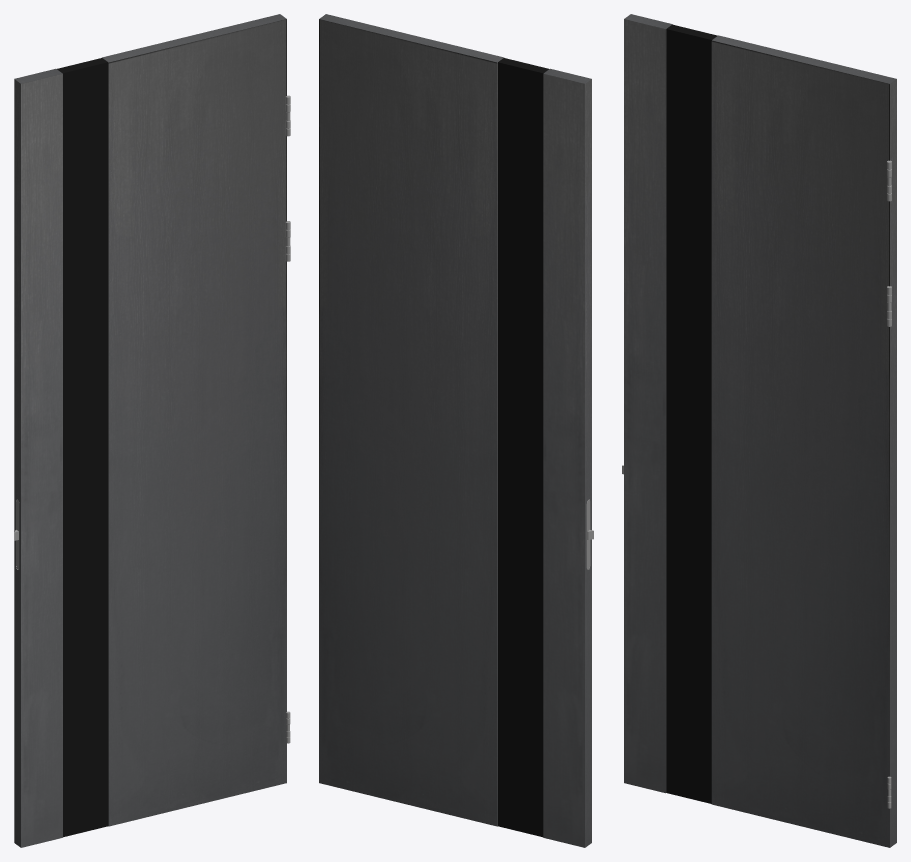
The model's file is 41_HUSTON_Door.glb.
3 views of the same model, side by side, from view 1: azimuth 30°, elevation 25°; view 2: azimuth 150°, elevation 25°; view 3: azimuth 330°, elevation 25° (orthographic).
Visible parts, largest first — view 1: 41_HUSTON_Door; view 2: 41_HUSTON_Door; view 3: 41_HUSTON_Door.
Part boxes in pixels (box(x1,y1,x2,y2)): 41_HUSTON_Door: box(14, 14, 290, 847); 41_HUSTON_Door: box(319, 14, 593, 847); 41_HUSTON_Door: box(622, 14, 896, 847).
Size of the model in its own units: 0.8201 by 2.2 by 0.0469.
Materials: 3 (1 with a texture image).
